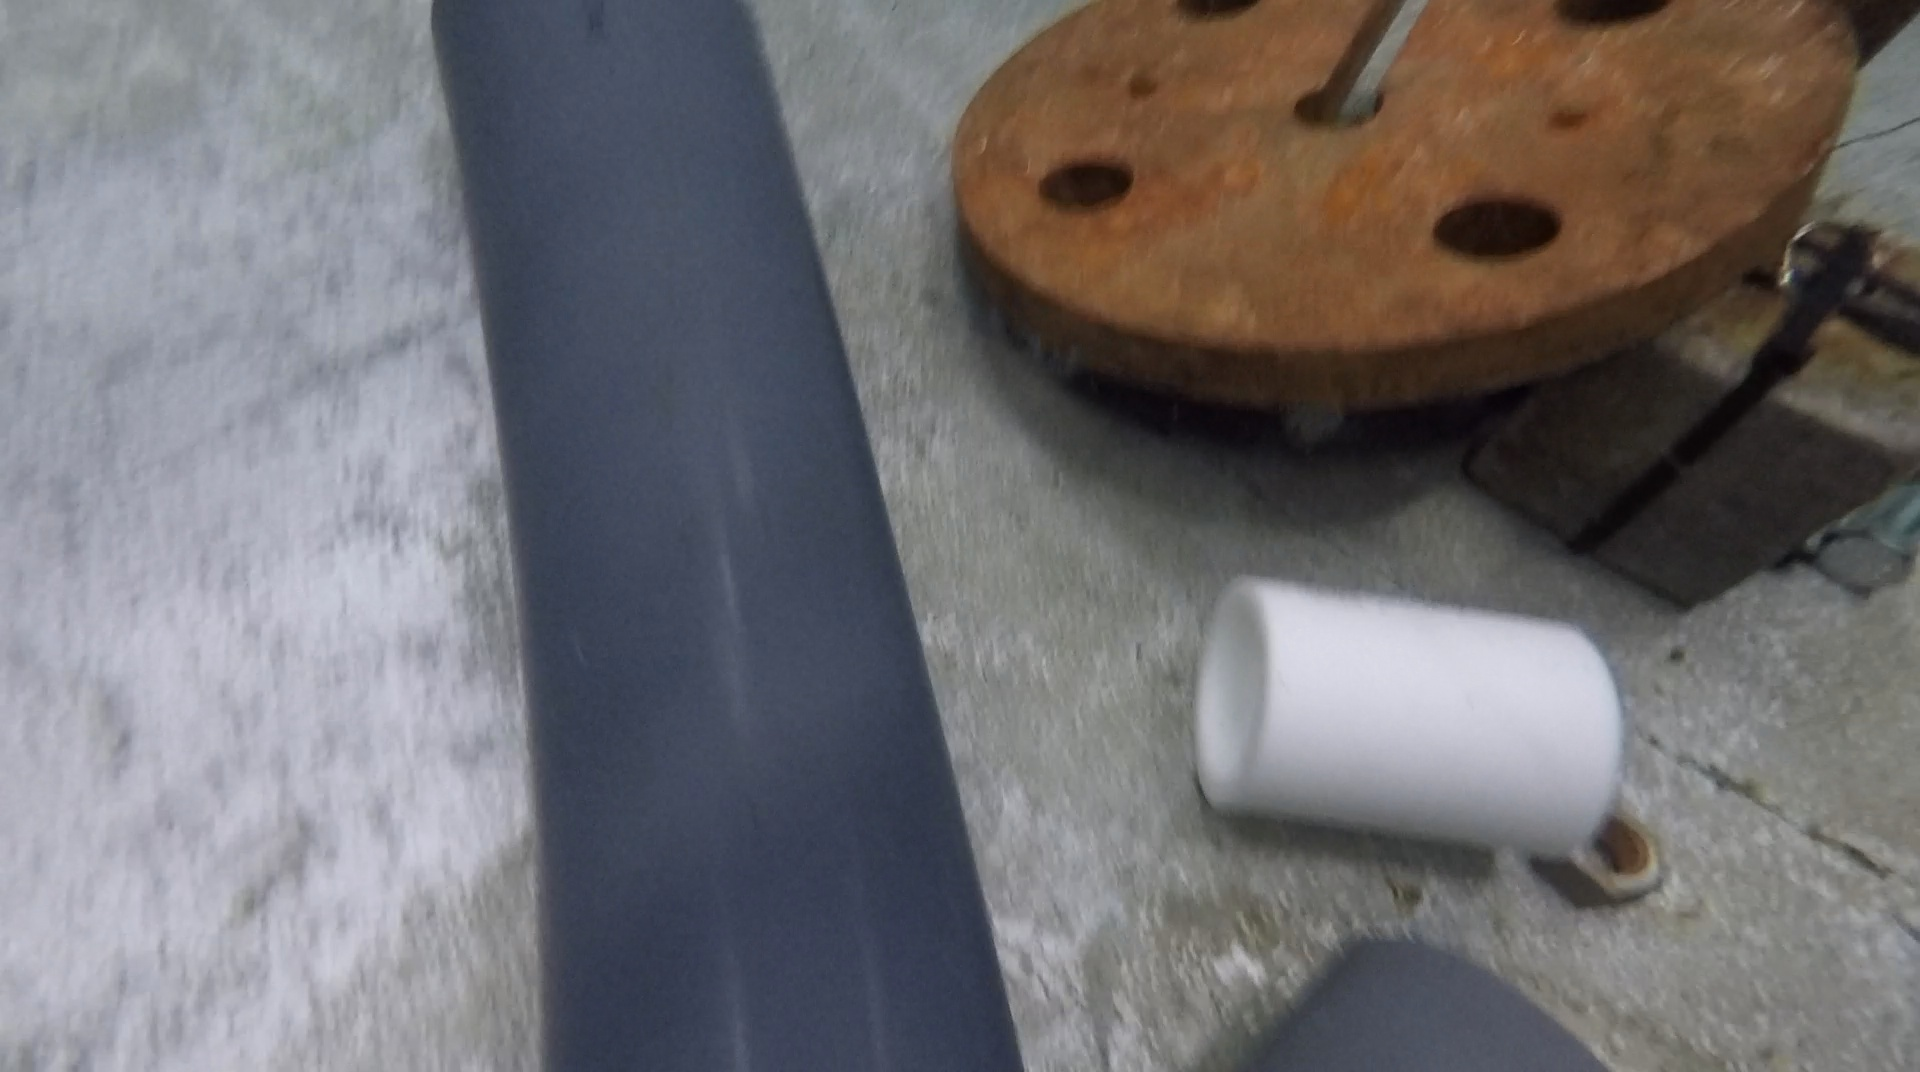bolt: (1815, 487, 1920, 596)
flange: (953, 1, 1859, 410)
led_block: (1462, 220, 1920, 610)
nut: (1532, 803, 1669, 907)
pipe: (429, 1, 1025, 1069), (1192, 574, 1621, 850), (1236, 935, 1621, 1072)
